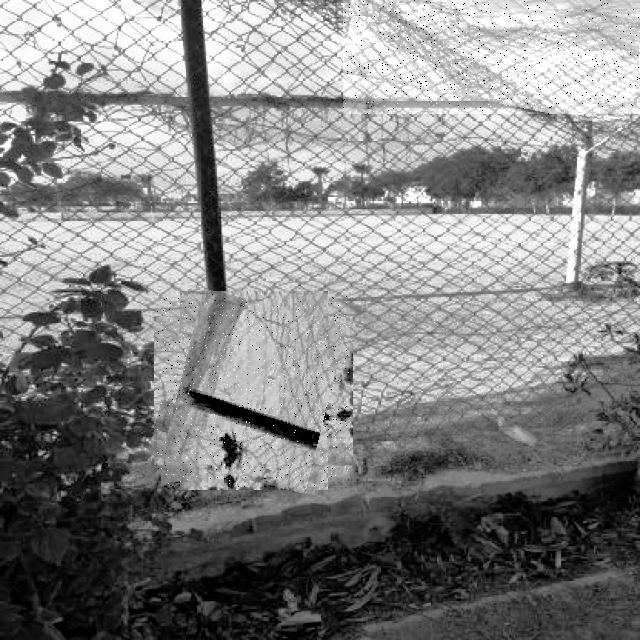anomaly-fence: (157, 294, 350, 487), (343, 0, 640, 114)
